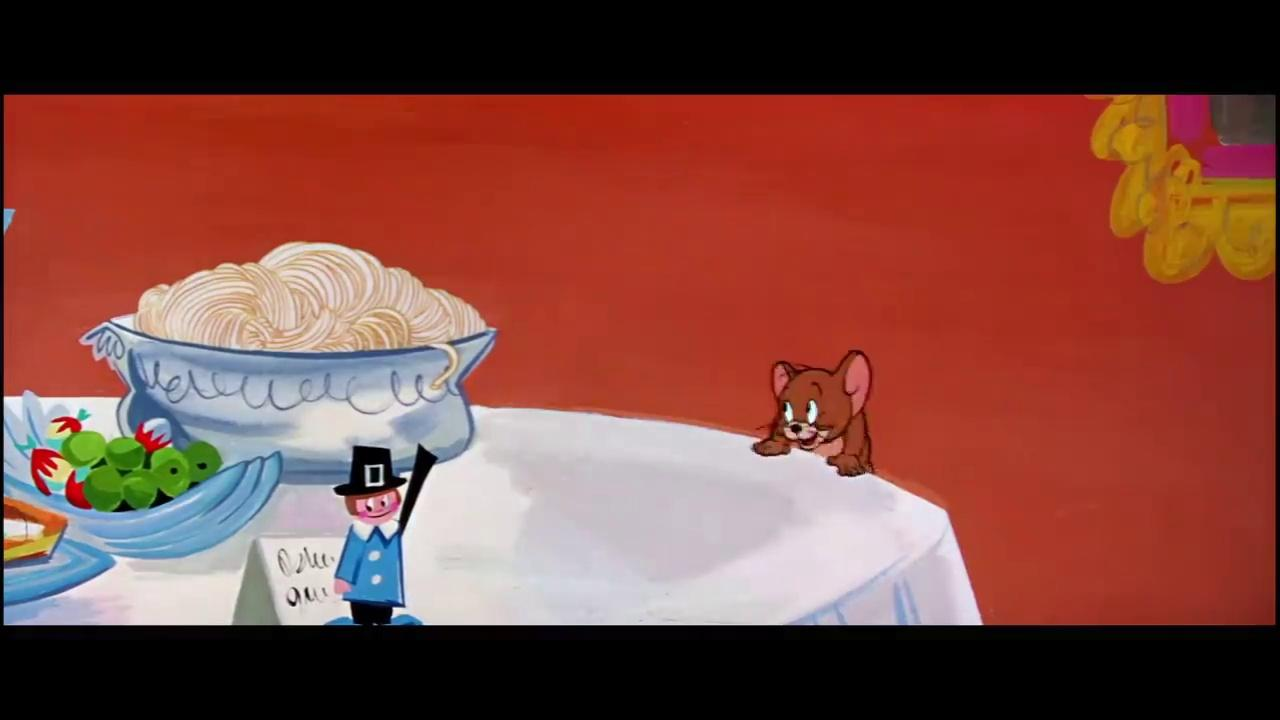Jerry: (749, 346, 877, 479)
